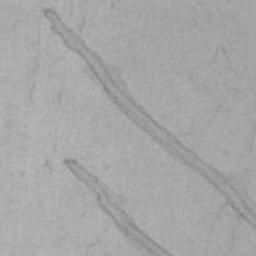Water spot: (42, 6, 256, 234), (63, 156, 177, 256)
